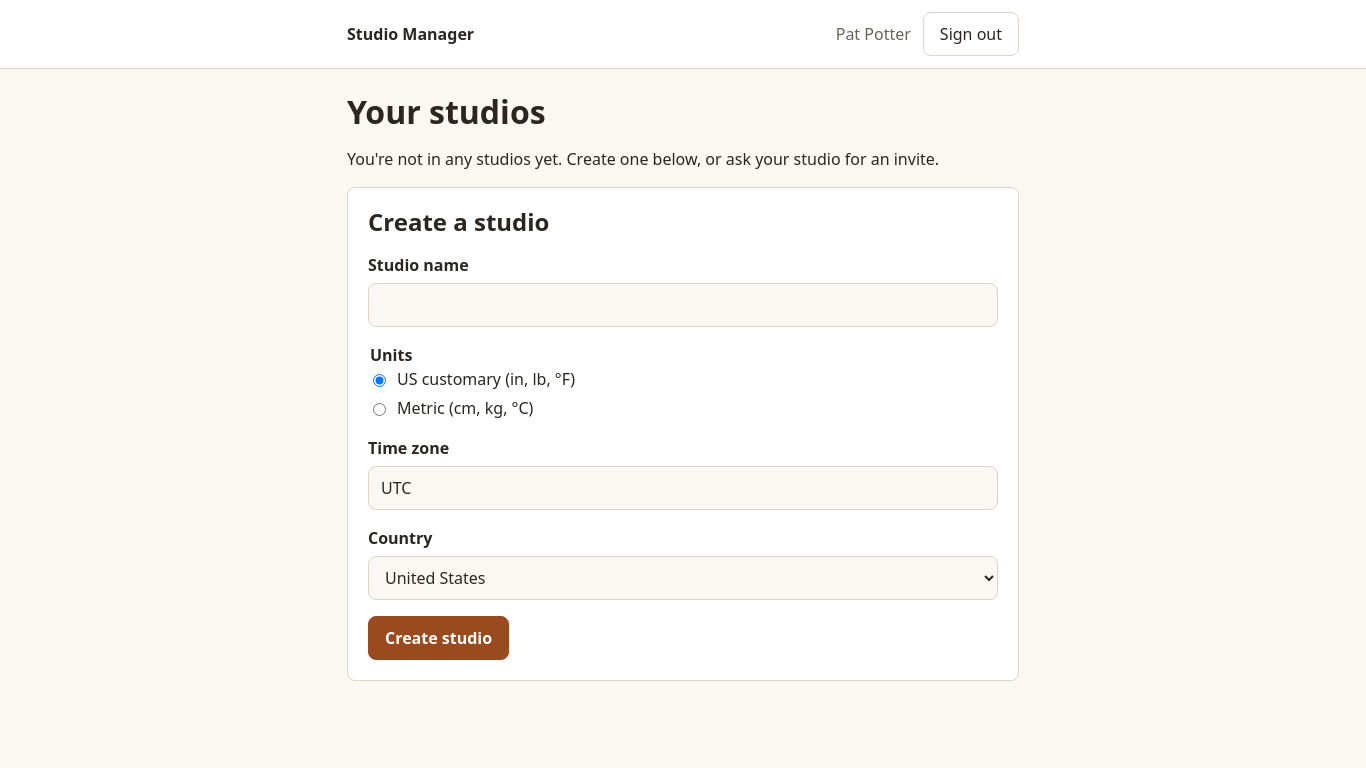
Scenario: creating a studio › shows the server explanation when the studio is rejected
Step 1. Type "Clay Collective" into the field labelled "Studio name" → (683, 305), box [368,283,998,327]
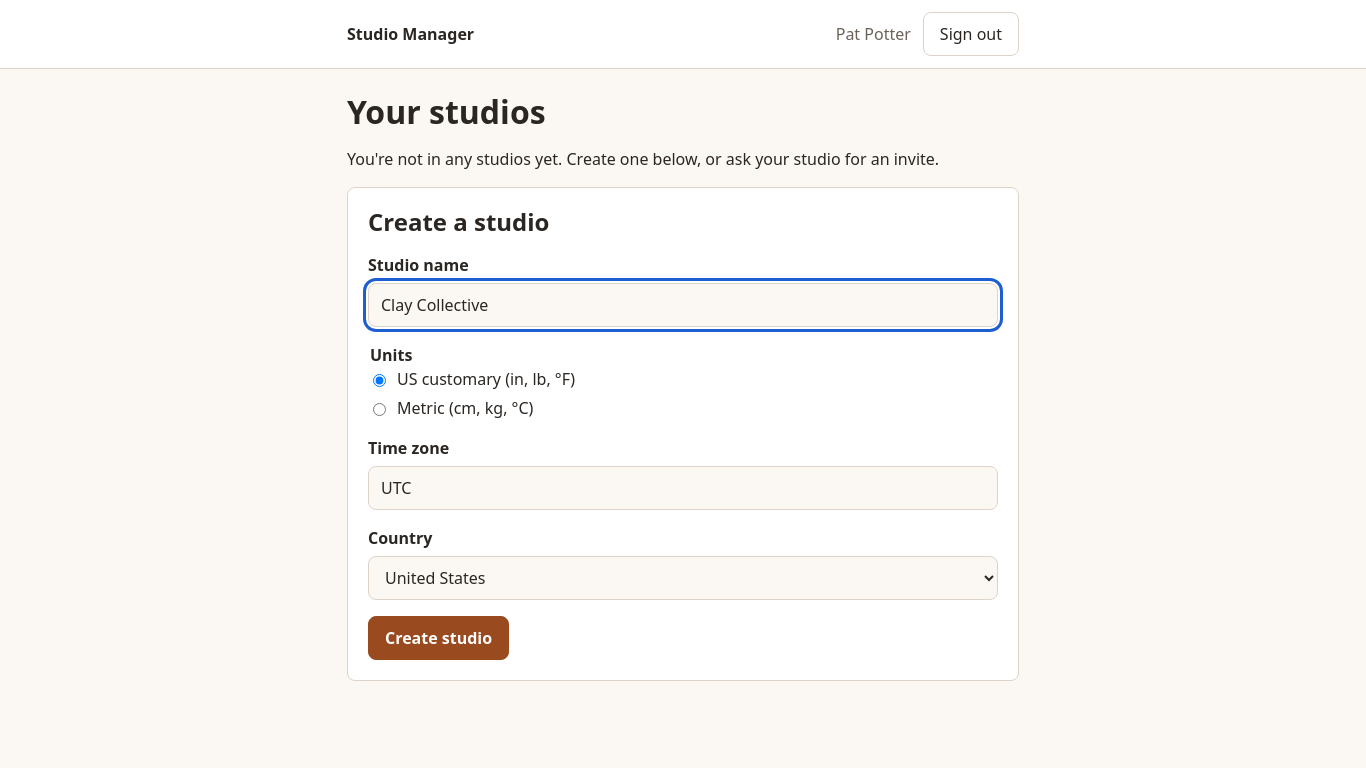
Step 2. Replace the text in the field labelled "Time zone" with "Mars/Olympus_Mons" → (683, 488), box [368,466,998,510]
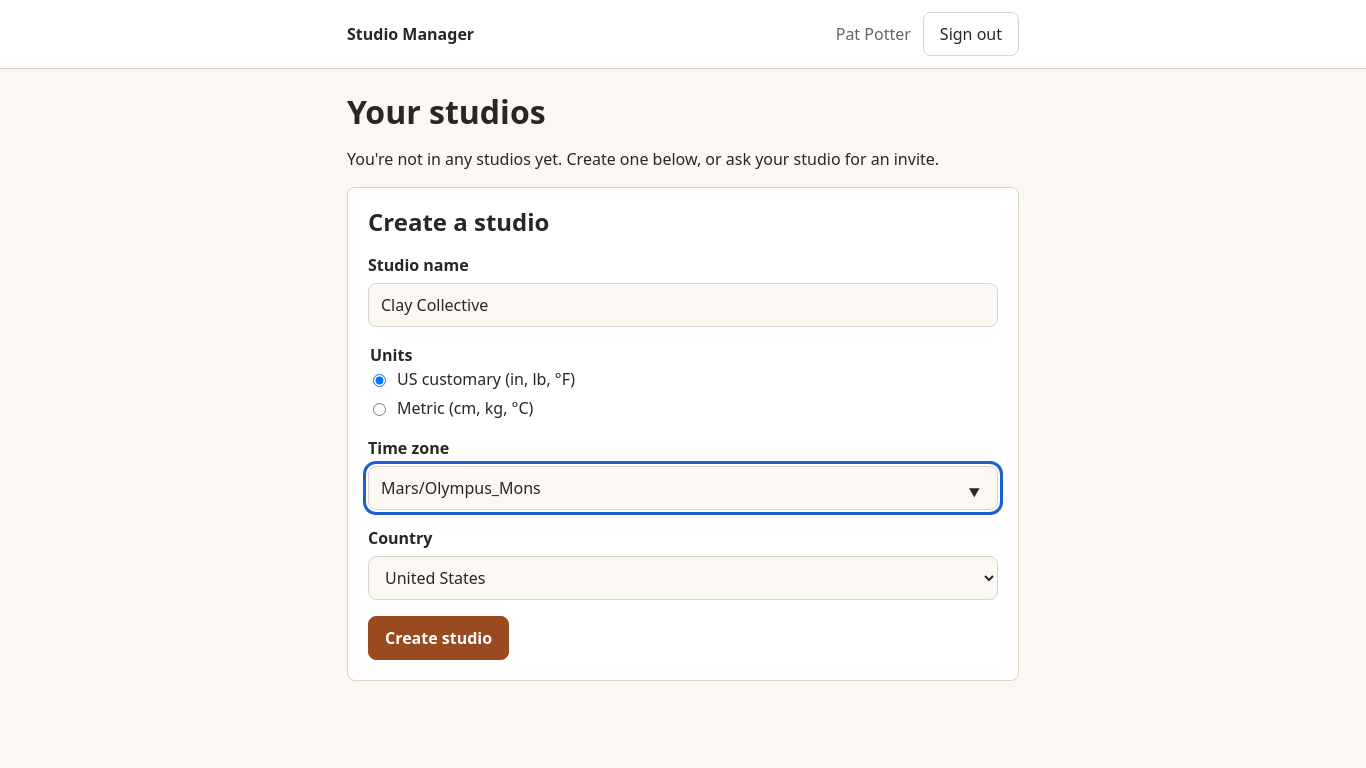
Step 3. Click the button "Create studio" → click(439, 638), box [368,616,509,660]
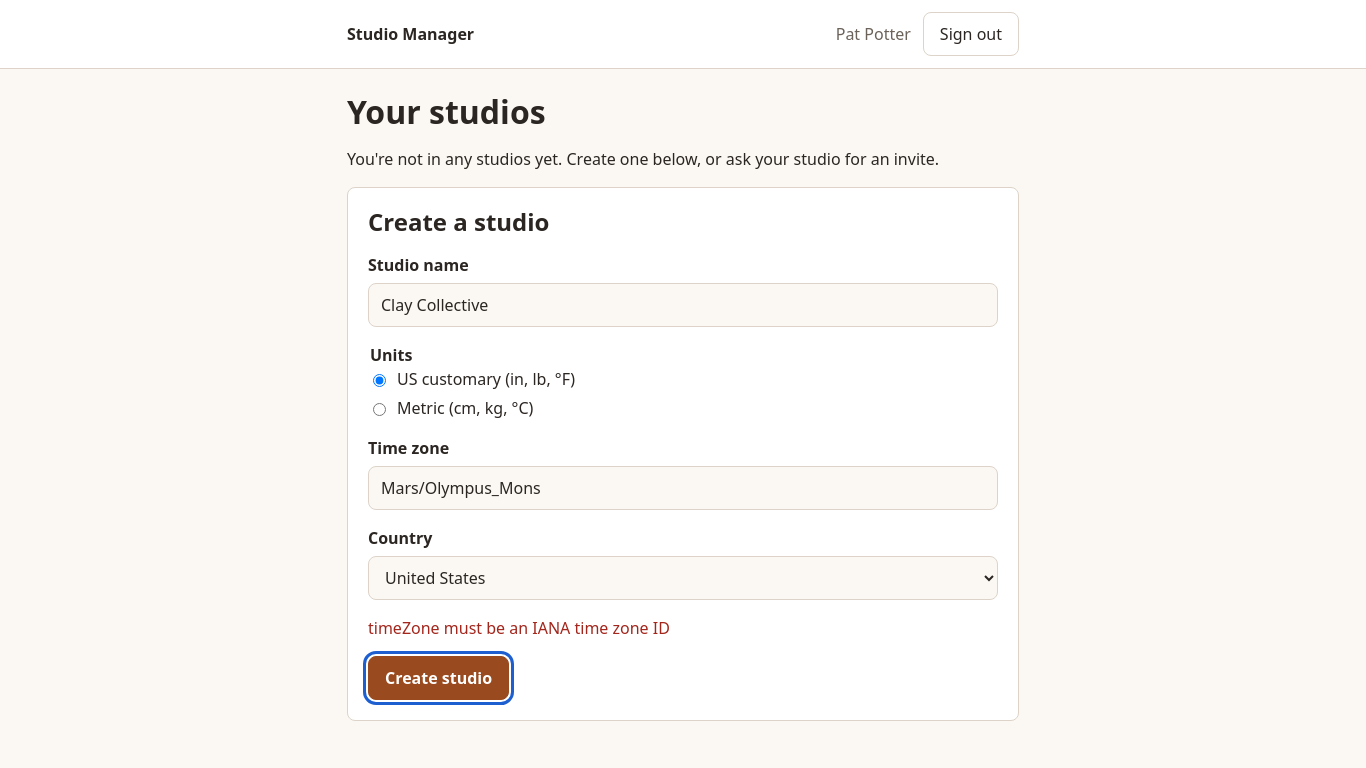
Now the message reads "timeZone must be an IANA time zone ID", box [368,617,670,639]
